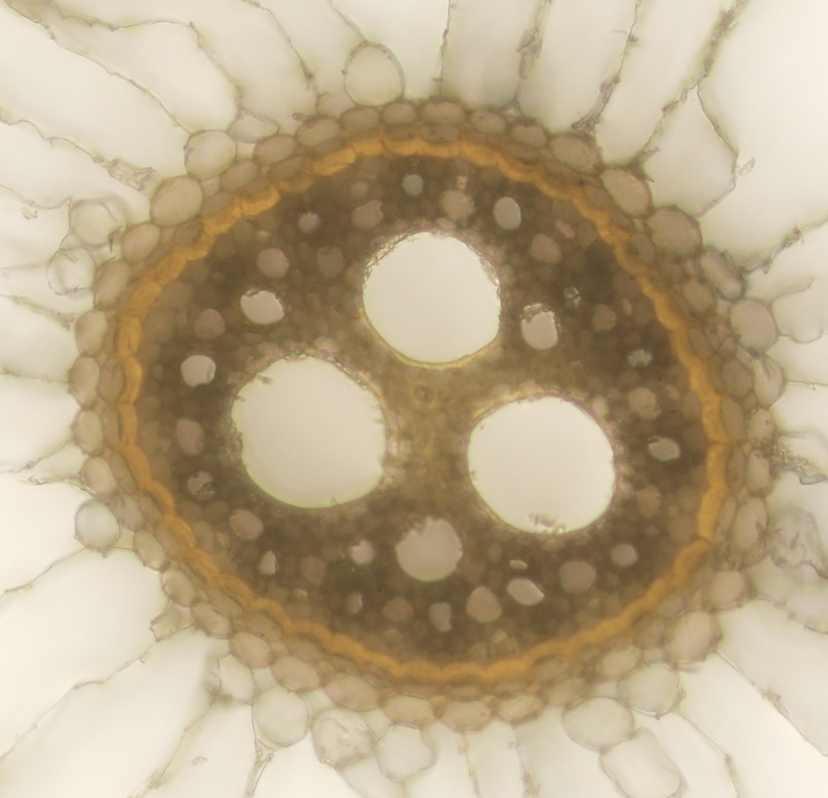lm: (231, 352, 387, 509), (464, 395, 615, 535), (360, 232, 503, 366)
